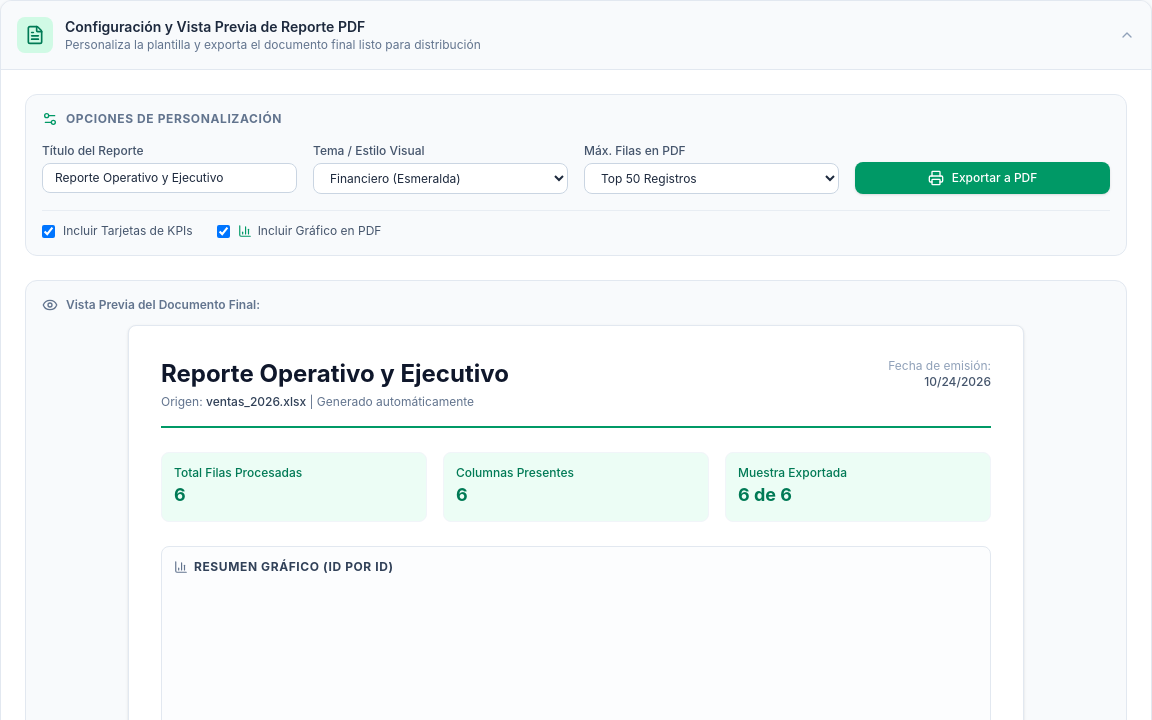
Test: Componente PdfReport › debe permitir alternar la visibilidad de los KPIs y del gráfico dentro del PDF
Expected: the checkbox labelled "Incluir Gráfico en PDF" is checked, [217, 224, 230, 238]
Expected: the text "Total Filas Procesadas" is shown, [174, 465, 302, 480]
Click the checkbox labelled "Incluir Tarjetas de KPIs": (48, 231) [42, 224, 55, 238]
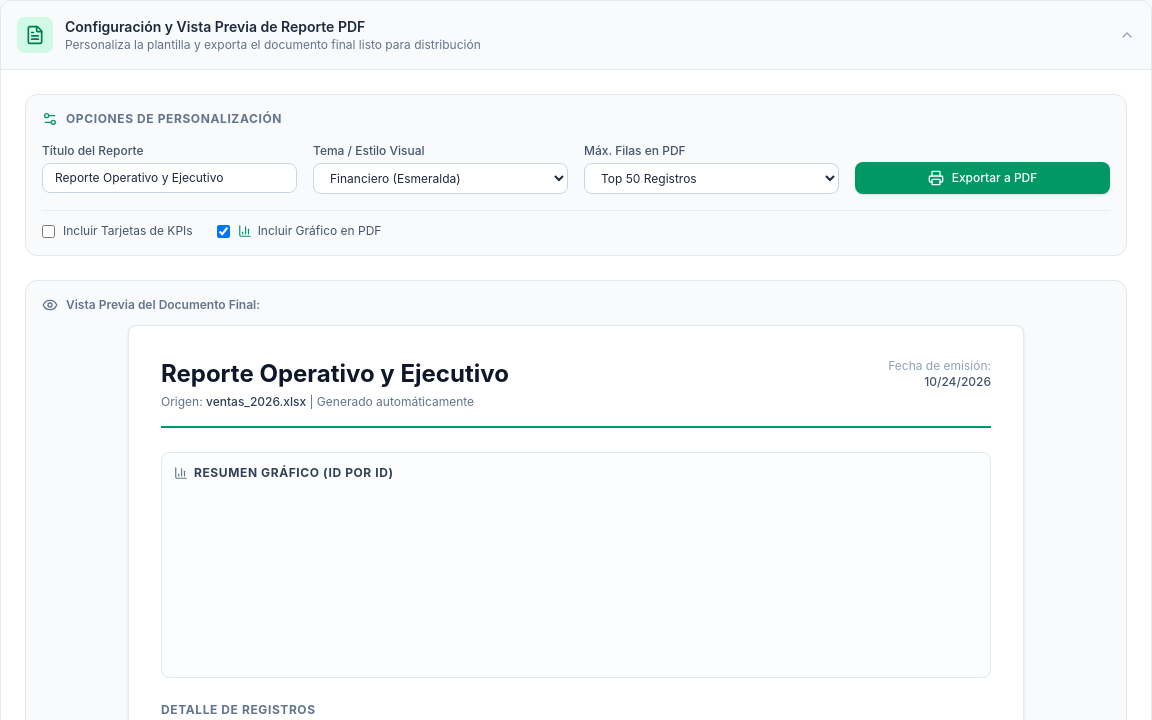
Expected: the checkbox labelled "Incluir Tarjetas de KPIs" is not checked, [42, 224, 55, 238]
Expected: the text "Total Filas Procesadas" is gone
Click the checkbox labelled "Incluir Gráfico en PDF": (223, 231) [217, 224, 230, 238]
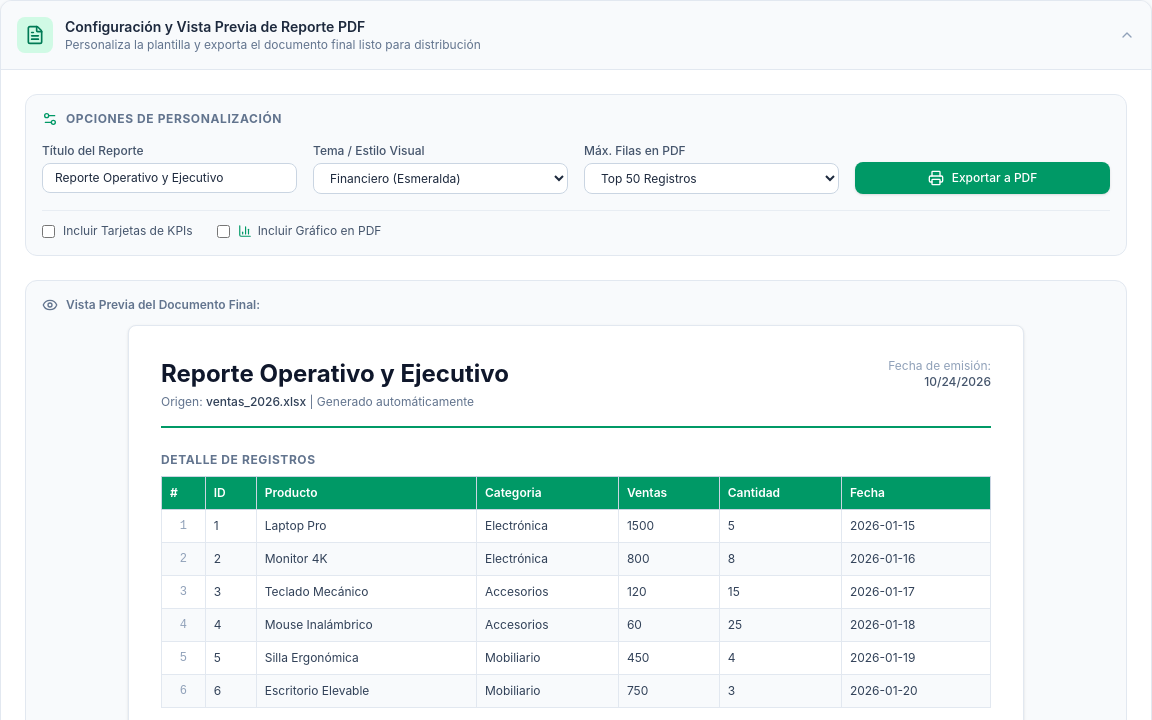
Expected: the checkbox labelled "Incluir Gráfico en PDF" is not checked, [217, 224, 230, 238]
Expected: the heading "Resumen Gráfico" is gone
